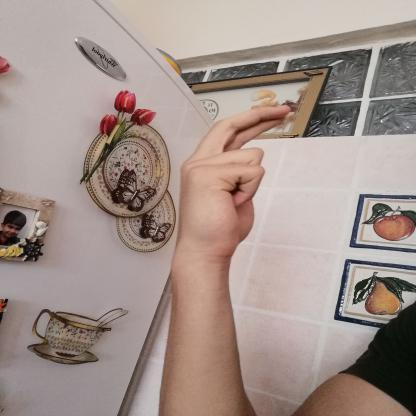ZAY: (161, 95, 308, 268)
